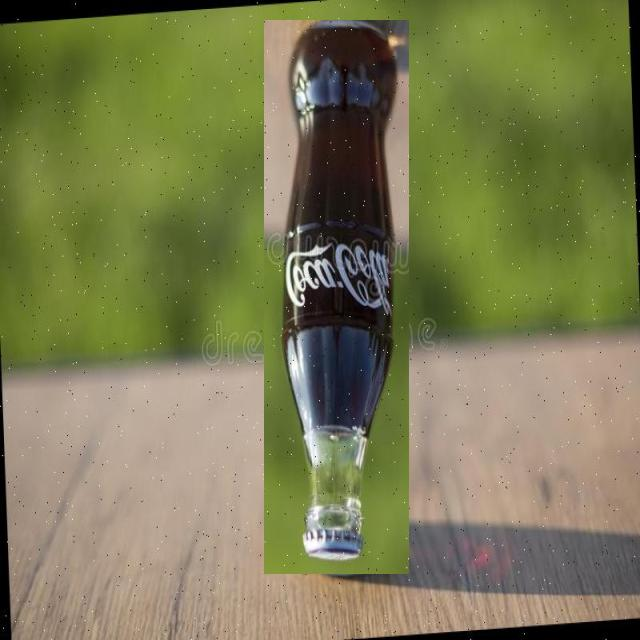coca-cola: (264, 20, 409, 574)
